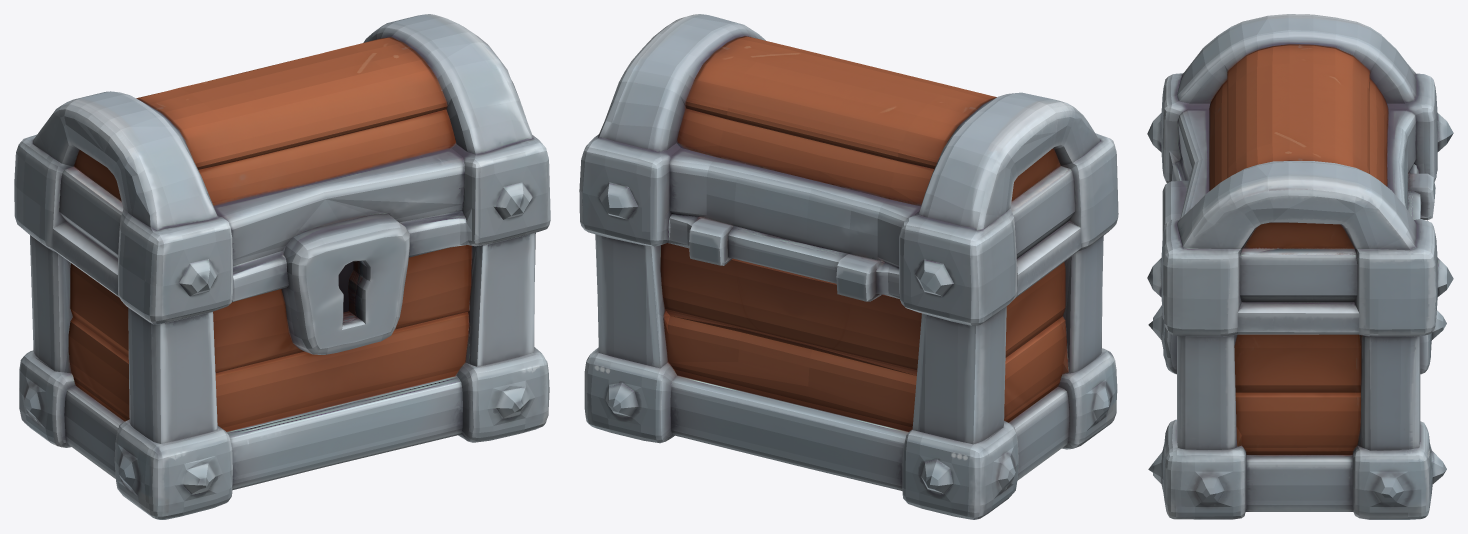
File: Chest_Model_1.fbx
The picture shows the model from 3 angles, left to right: view 1: azimuth 30°, elevation 25°; view 2: azimuth 150°, elevation 25°; view 3: azimuth 270°, elevation 25°; orthographic projection. The views are drawn at different scales.
Visible parts, largest first — view 1: temp; view 2: temp; view 3: temp.
Boxes of the visible parts, x1,y1,x2,y2 form: temp: (14,14,550,519); temp: (579,14,1118,519); temp: (1147,14,1453,519).
Bounding box in the file's own units: 189 × 153 × 126.
1 material, 1 textured.
